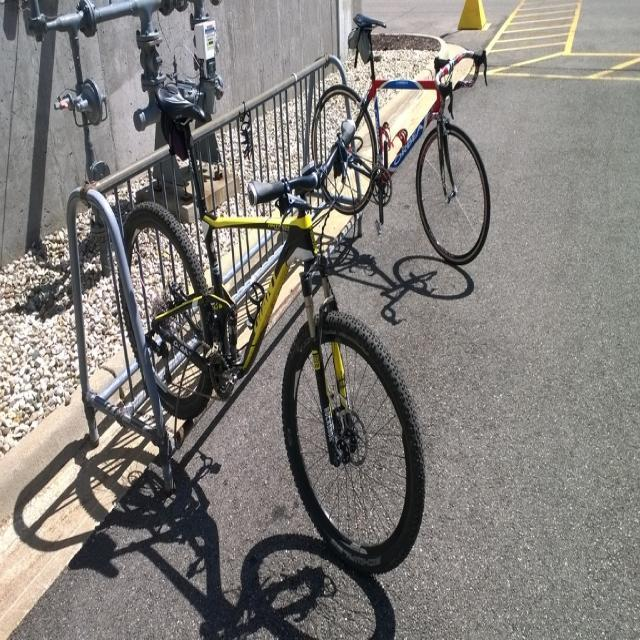car: (117, 116, 427, 576), (294, 5, 502, 265)
